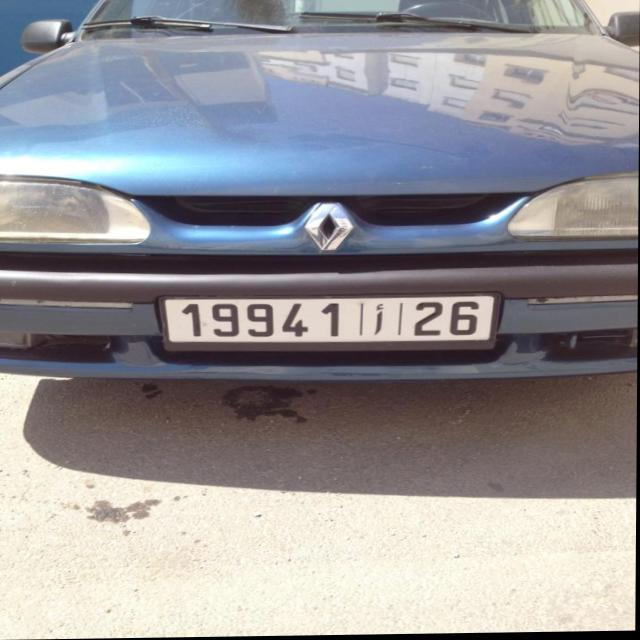License-Plate: (163, 297, 498, 352)
